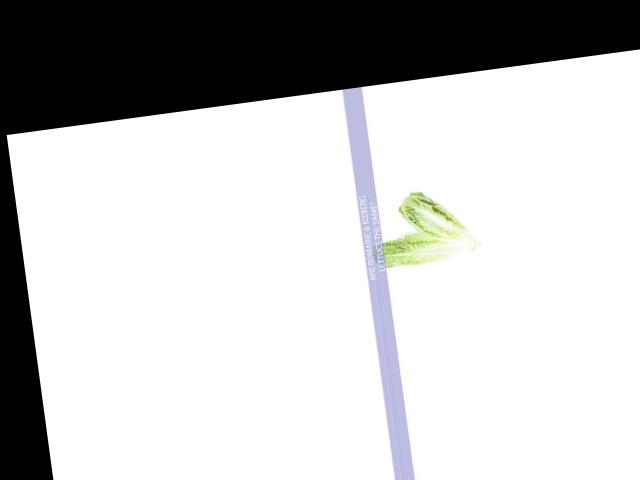lettuce: (392, 186, 492, 260)
